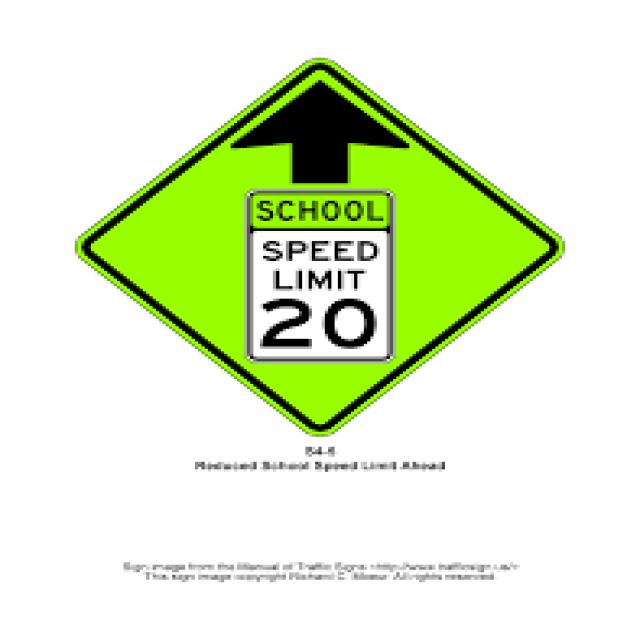speedLimit20: (249, 230, 388, 363)
